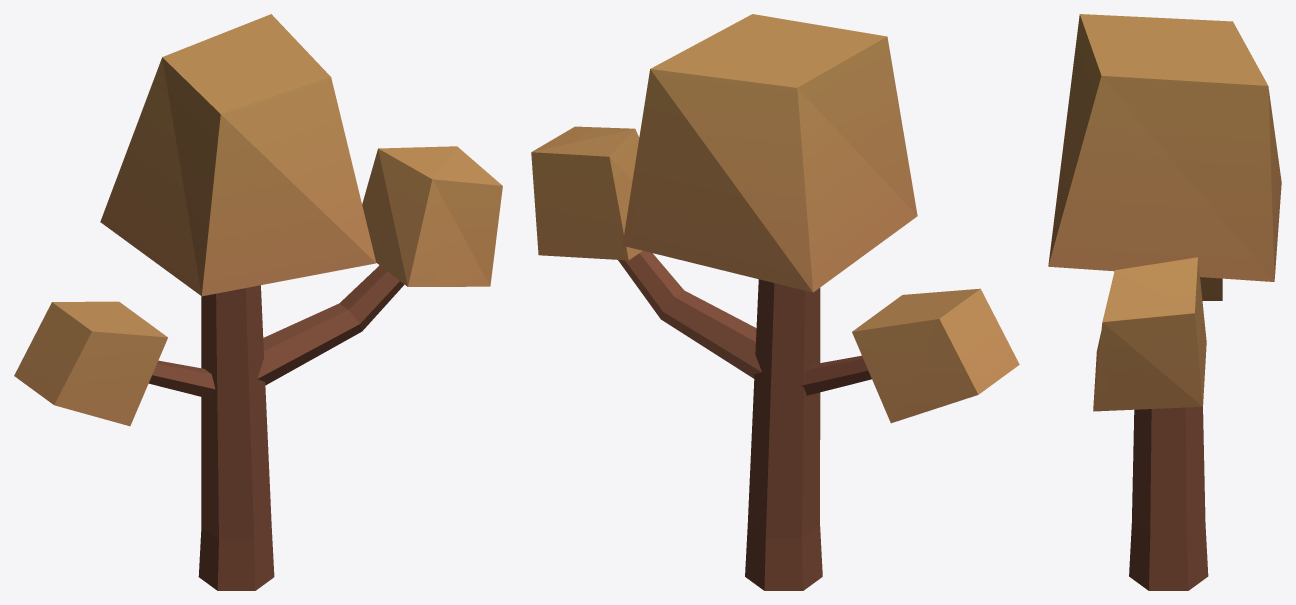
File: Tree_44_gradient_yellow_vc.fbx
3 renders of one model, left to right at view 1: azimuth 30°, elevation 25°; view 2: azimuth 150°, elevation 25°; view 3: azimuth 270°, elevation 25°, orthographic. The views are drawn at different scales.
Visible parts, largest first — view 1: Tree_44_gradient_yellow_vc; view 2: Tree_44_gradient_yellow_vc; view 3: Tree_44_gradient_yellow_vc.
Part boxes in pixels (x1,y1,x2,y2): Tree_44_gradient_yellow_vc: (14, 14, 502, 590); Tree_44_gradient_yellow_vc: (531, 14, 1019, 590); Tree_44_gradient_yellow_vc: (1048, 14, 1281, 590).
Bounding box in the file's own units: 162 × 179 × 70.99.
